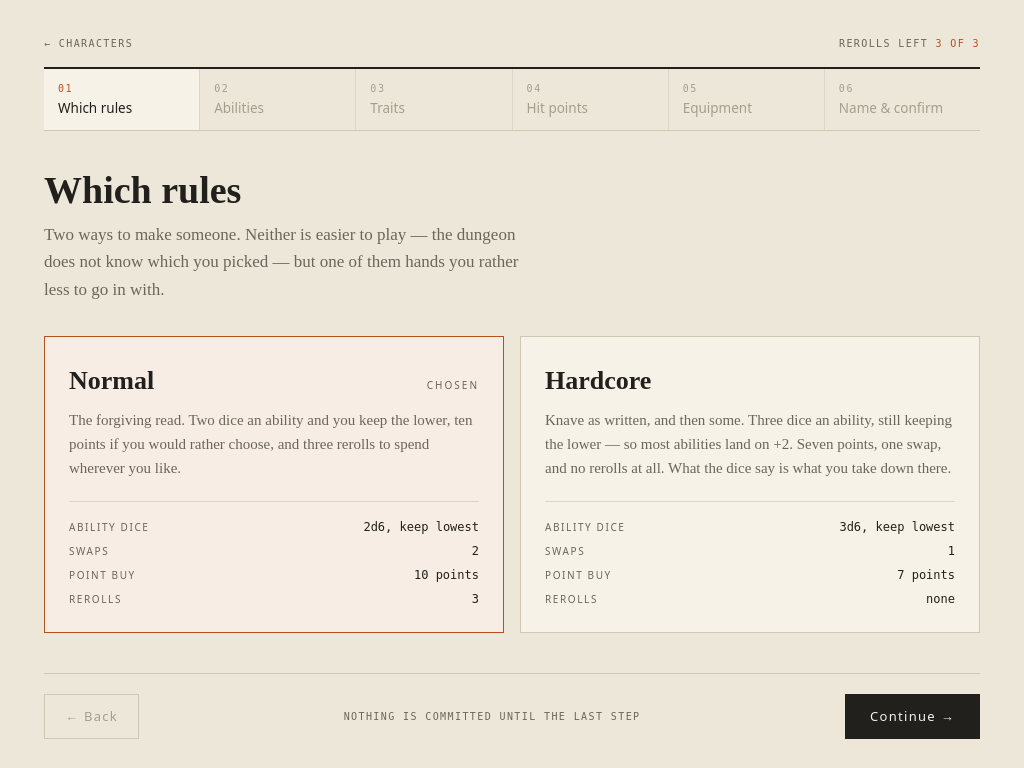
swapping abilities › hands the swaps back when a reroll replaces the dice under them
This screenshot has width=1024, height=768.
Step 1. Click the button "02 Abilities" → [278, 100], box [200,69,356,130]
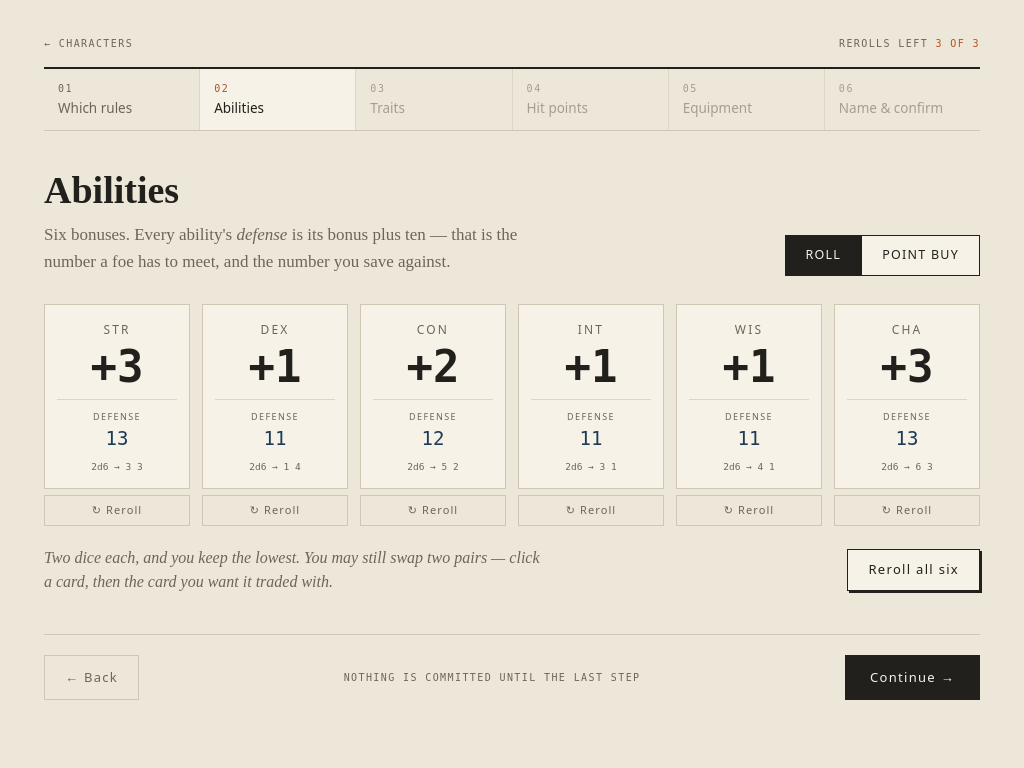
Step 2. Click the button "str +3 Defense 13 2d6 → 3 3" → [117, 397], box [44,304,190,489]
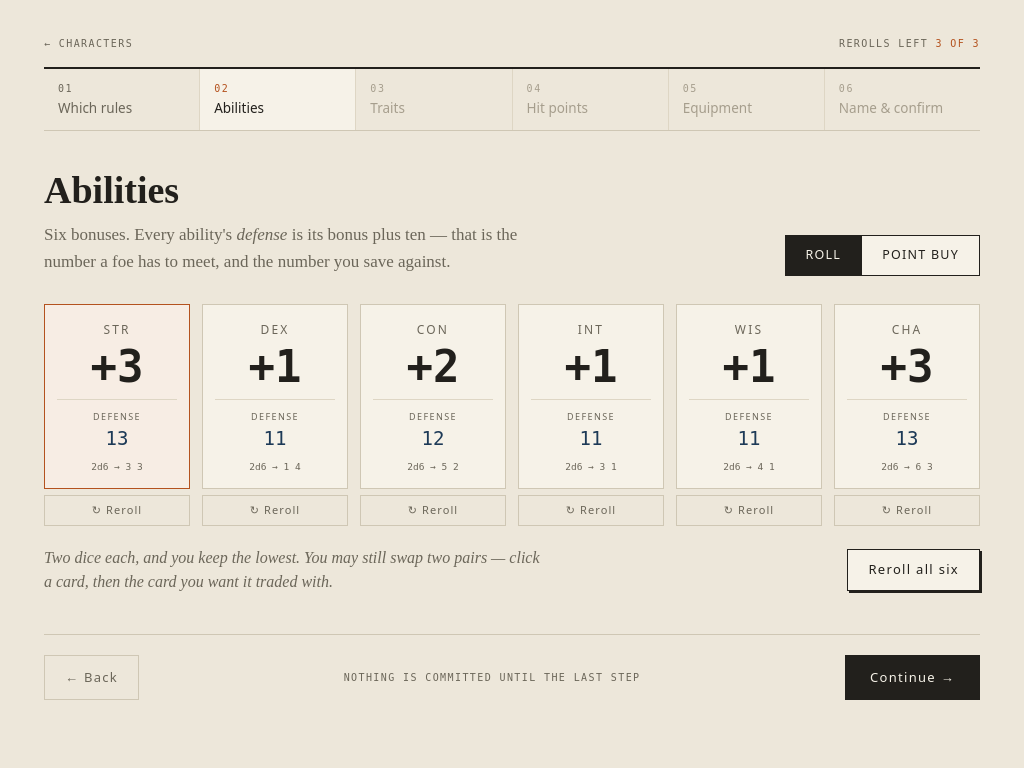
Step 3. Click the button "dex +1 Defense 11 2d6 → 1 4" → [275, 397], box [202,304,348,489]
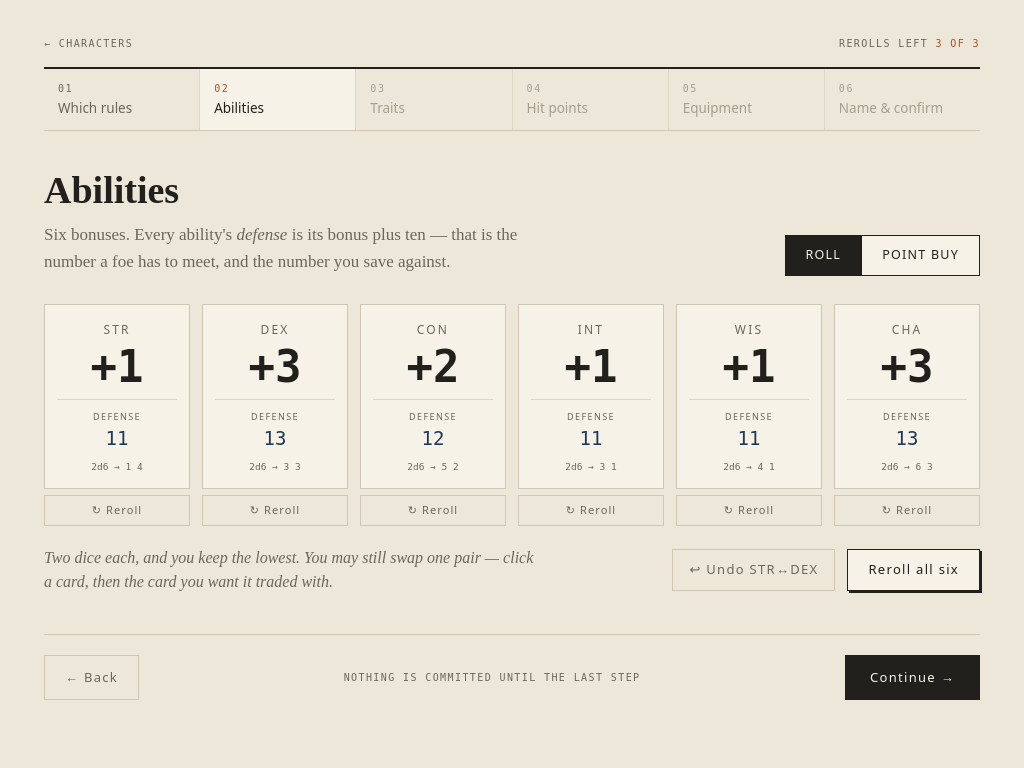
Step 4. Click the button "con +2 Defense 12 2d6 → 5 2" → [433, 397], box [360,304,506,489]
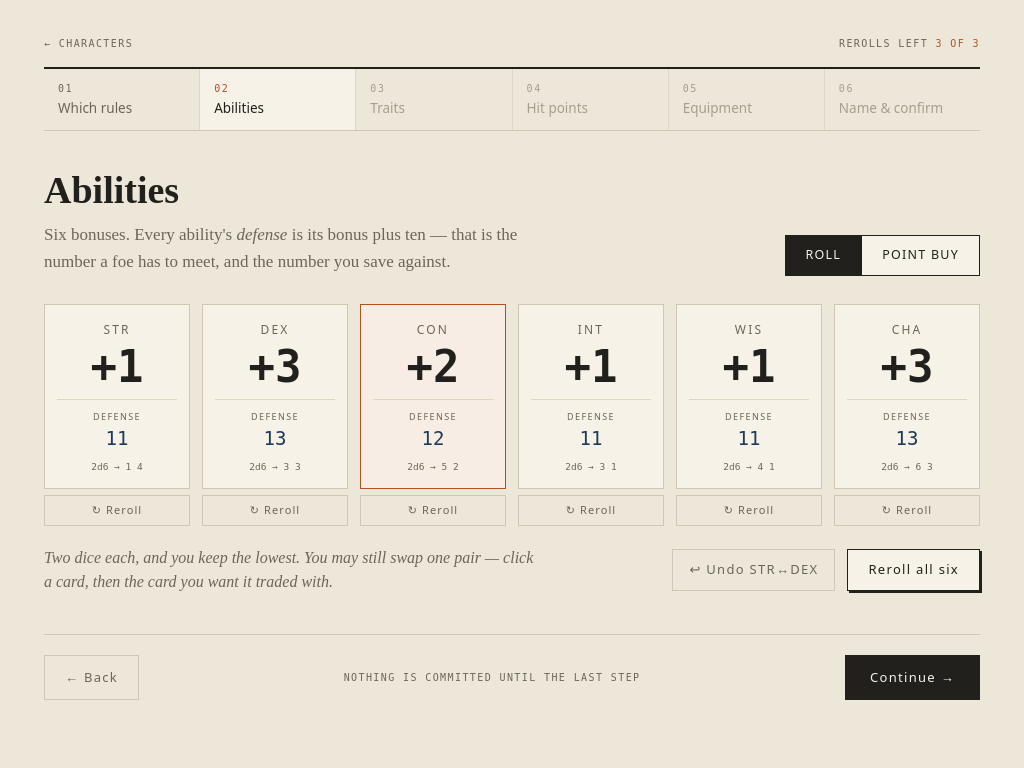
Step 5. Click the button "int +1 Defense 11 2d6 → 3 1" → [591, 397], box [518,304,664,489]
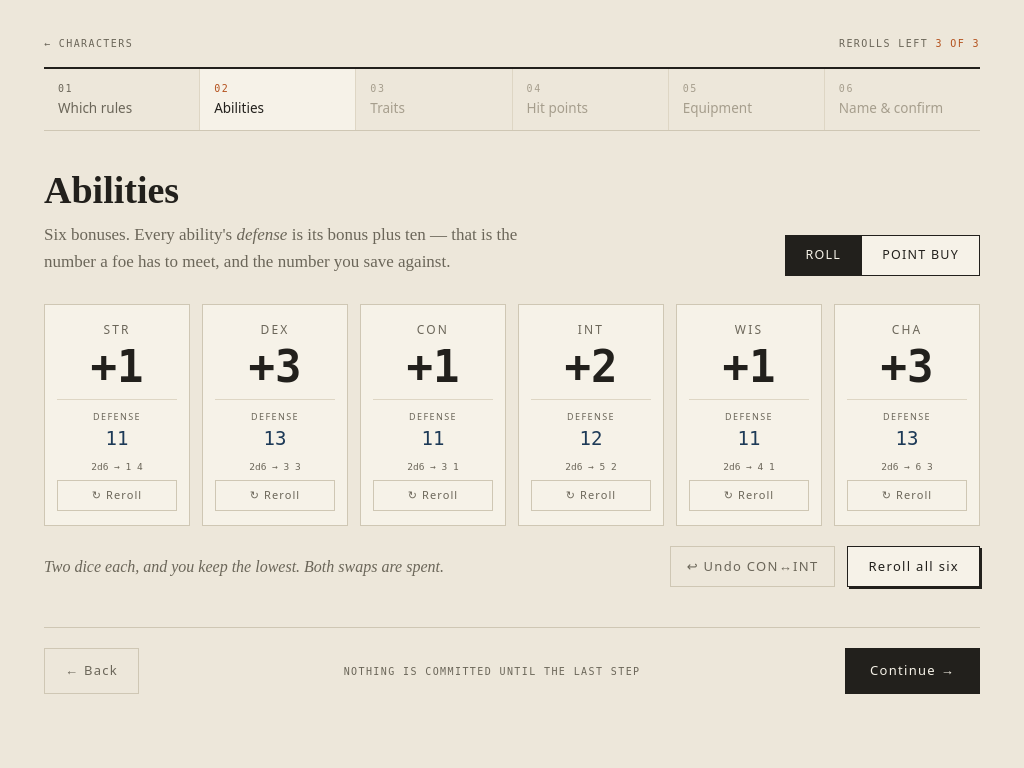
expect the text "Both swaps are spent" is shown: met, box [304,558,444,574]
Step 6. Click the button "↻ Reroll" below "1 4" → [117, 496], box [57,480,177,511]
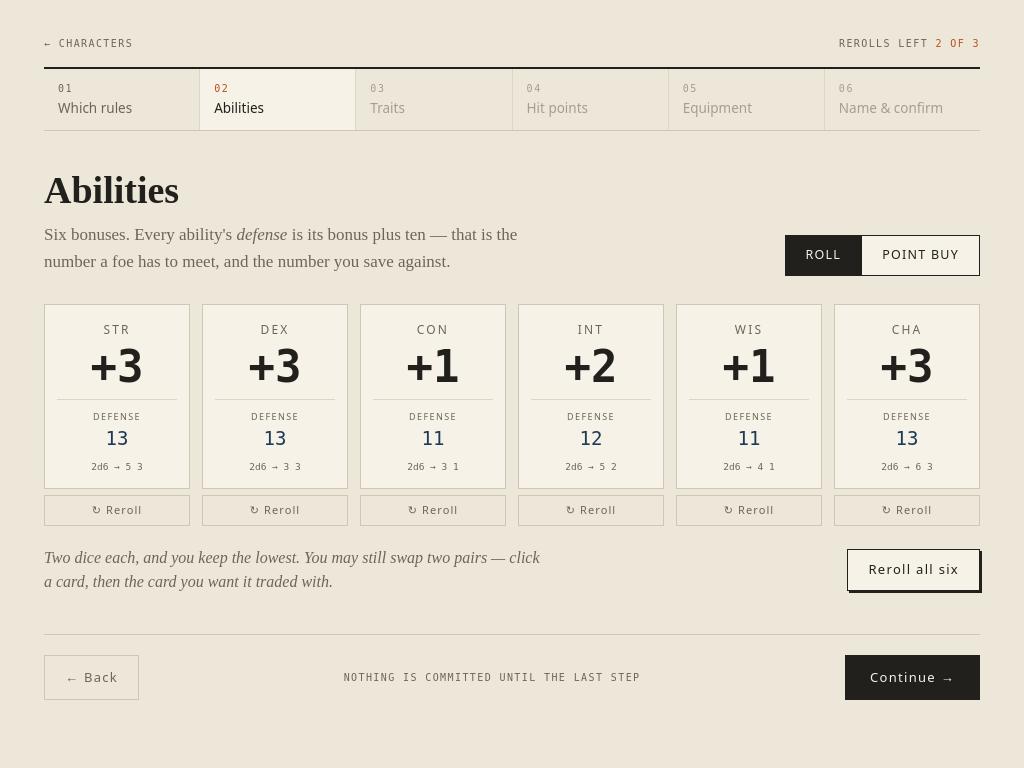
expect the text "swap two pairs" is shown: met, box [44,549,540,590]
